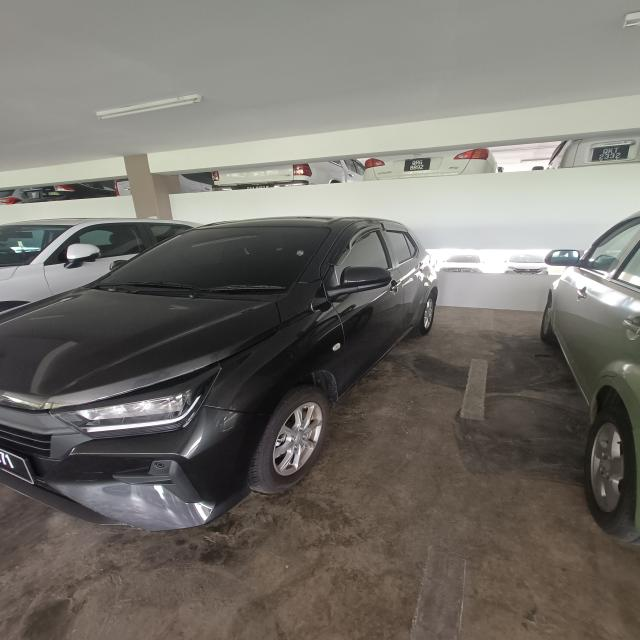PeroduaAxia: (1, 214, 440, 531)
